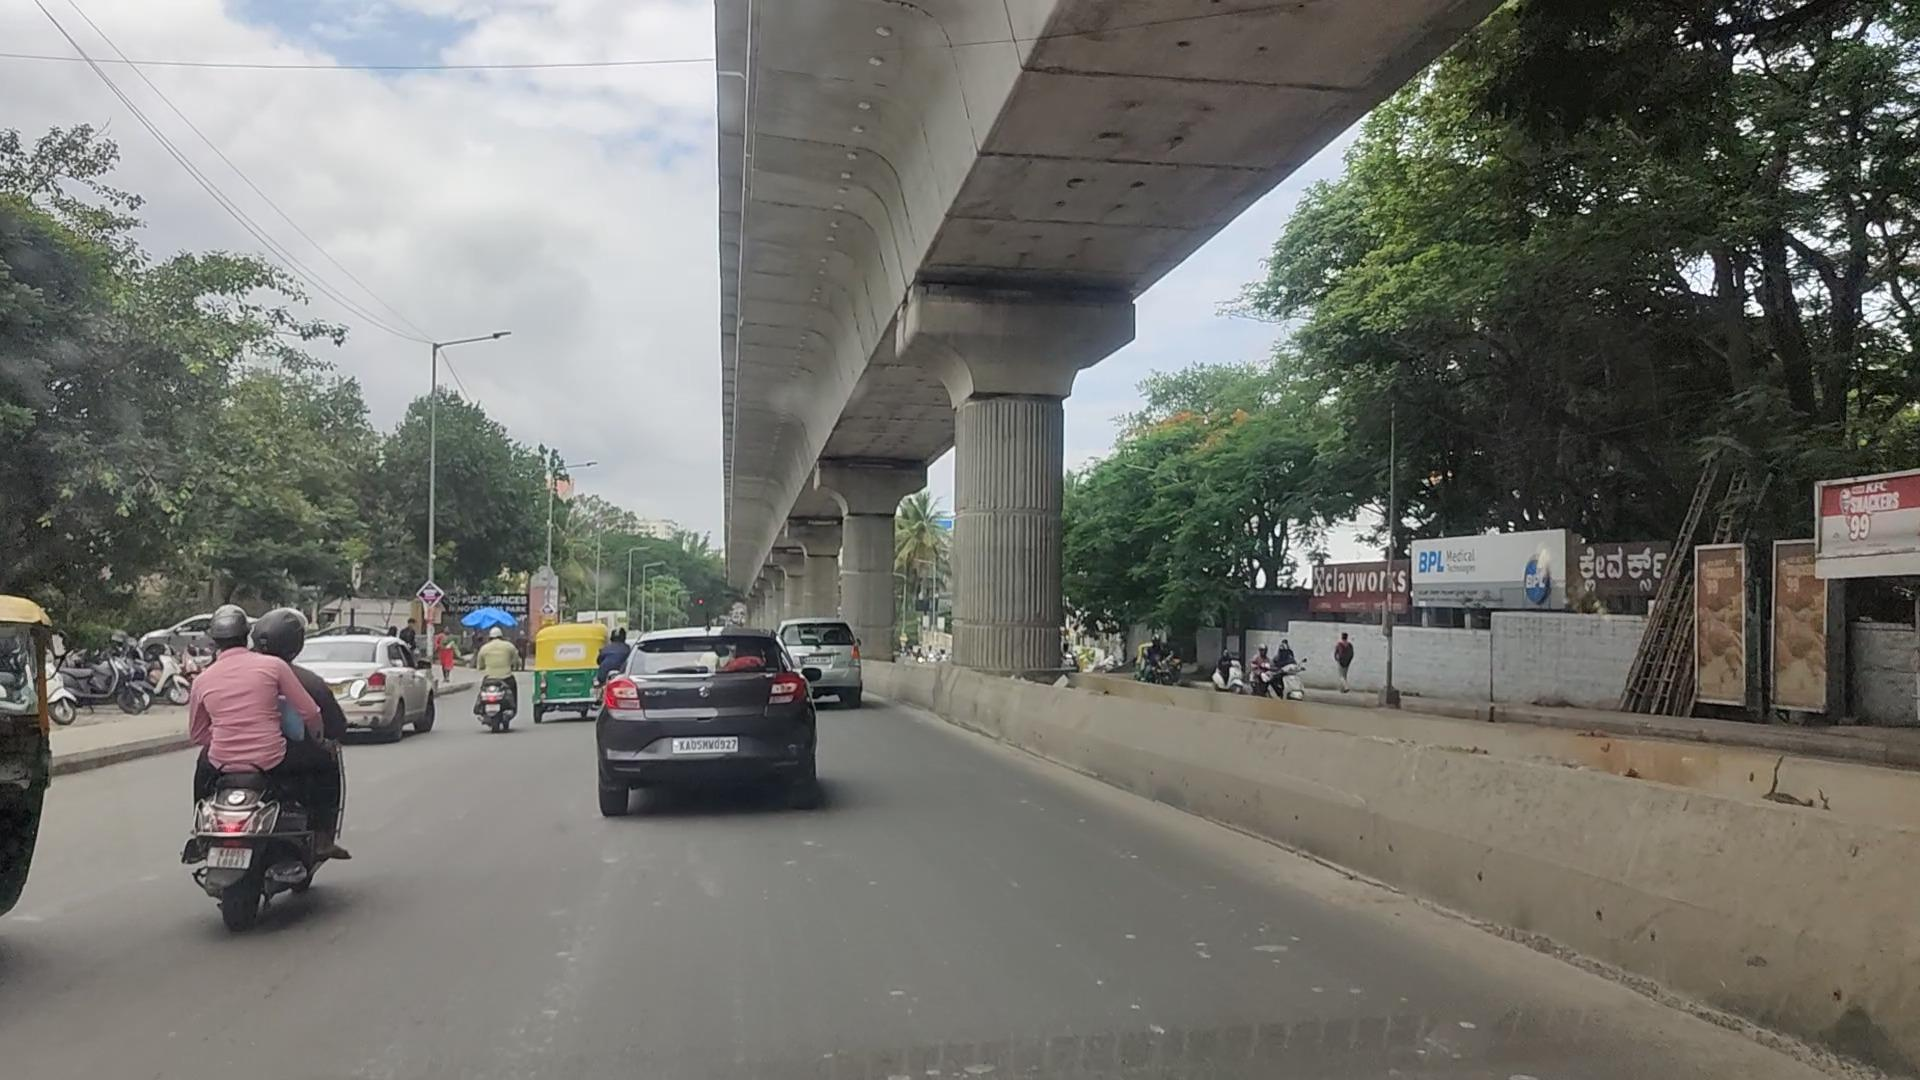LMV: (190, 592, 334, 942), (578, 620, 818, 828), (475, 622, 518, 727)
